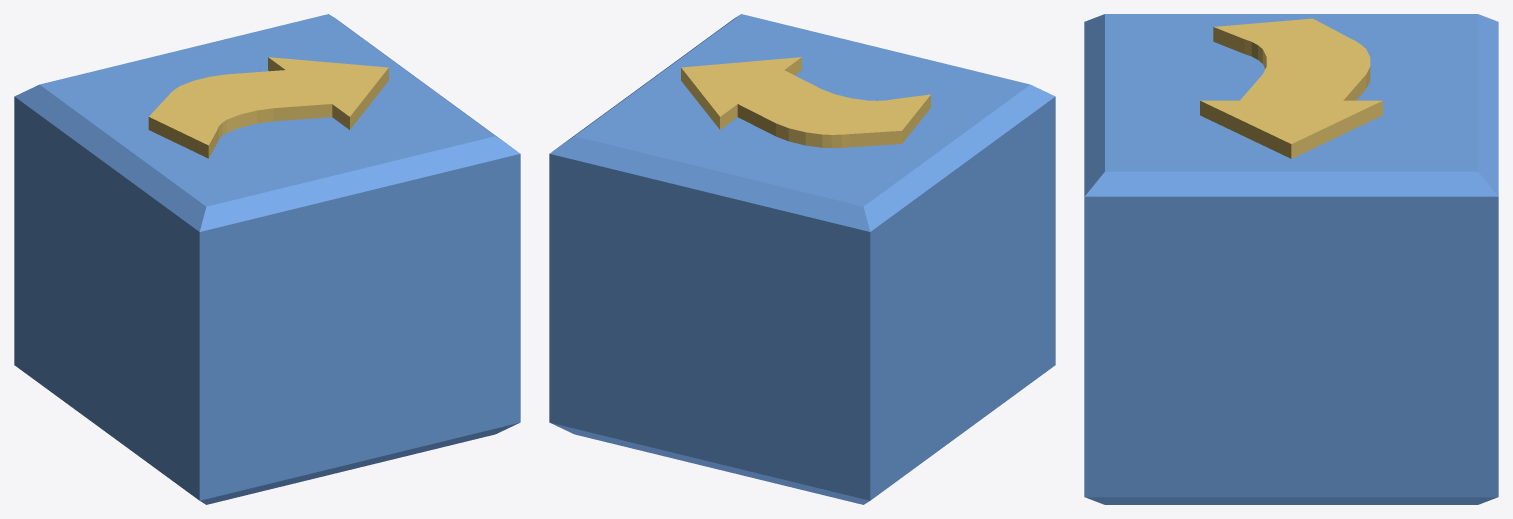
File: RotatorBox.fbx
3 views of the same model, side by side, from view 1: azimuth 30°, elevation 25°; view 2: azimuth 150°, elevation 25°; view 3: azimuth 270°, elevation 25° (orthographic). The views are drawn at different scales.
Visible parts, largest first — view 1: Cube, Plane; view 2: Cube, Plane; view 3: Cube, Plane.
Part boxes in pixels (x1,y1,x2,y2): Cube: (14,14,520,504); Plane: (148,57,388,158); Cube: (549,14,1055,504); Plane: (681,57,930,147); Cube: (1084,14,1498,504); Plane: (1200,18,1382,158).
Bounding box in the file's own units: 100 × 92.75 × 100.
